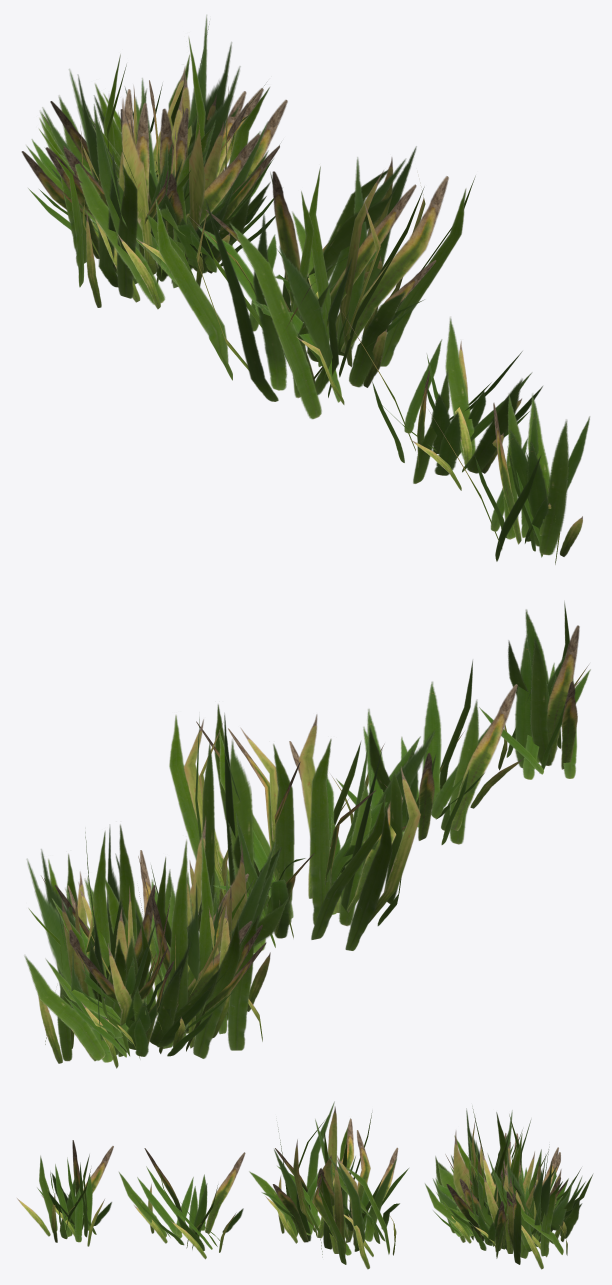
Rendered from grass-variations.glb.
3 renders of one model, top to bottom at view 1: azimuth 30°, elevation 25°; view 2: azimuth 150°, elevation 25°; view 3: azimuth 270°, elevation 25°, orthographic. The views are drawn at different scales.
Parts seen in each view (by area): view 1: grass_variant_1, grass_varient_2, grass_varient_3, grass_varien_4; view 2: grass_variant_1, grass_varient_2, grass_varient_3, grass_varien_4; view 3: grass_variant_1, grass_varient_2, grass_varient_3, grass_varien_4.
Part boxes in pixels (box(x1,y1,x2,y2)): grass_variant_1: box(21, 15, 287, 309); grass_varient_2: box(155, 146, 475, 419); grass_varient_3: box(342, 312, 542, 490); grass_varien_4: box(429, 393, 589, 564); grass_variant_1: box(24, 816, 289, 1068); grass_varient_2: box(169, 704, 435, 953); grass_varient_3: box(332, 660, 523, 844); grass_varien_4: box(479, 601, 590, 779); grass_variant_1: box(425, 1106, 592, 1269); grass_varient_2: box(249, 1101, 408, 1269); grass_varient_3: box(119, 1148, 245, 1259); grass_varien_4: box(17, 1140, 113, 1246).
Bounding box in the file's own units: 123 × 94.69 × 393.
Materials: 4 (4 with a texture image).
